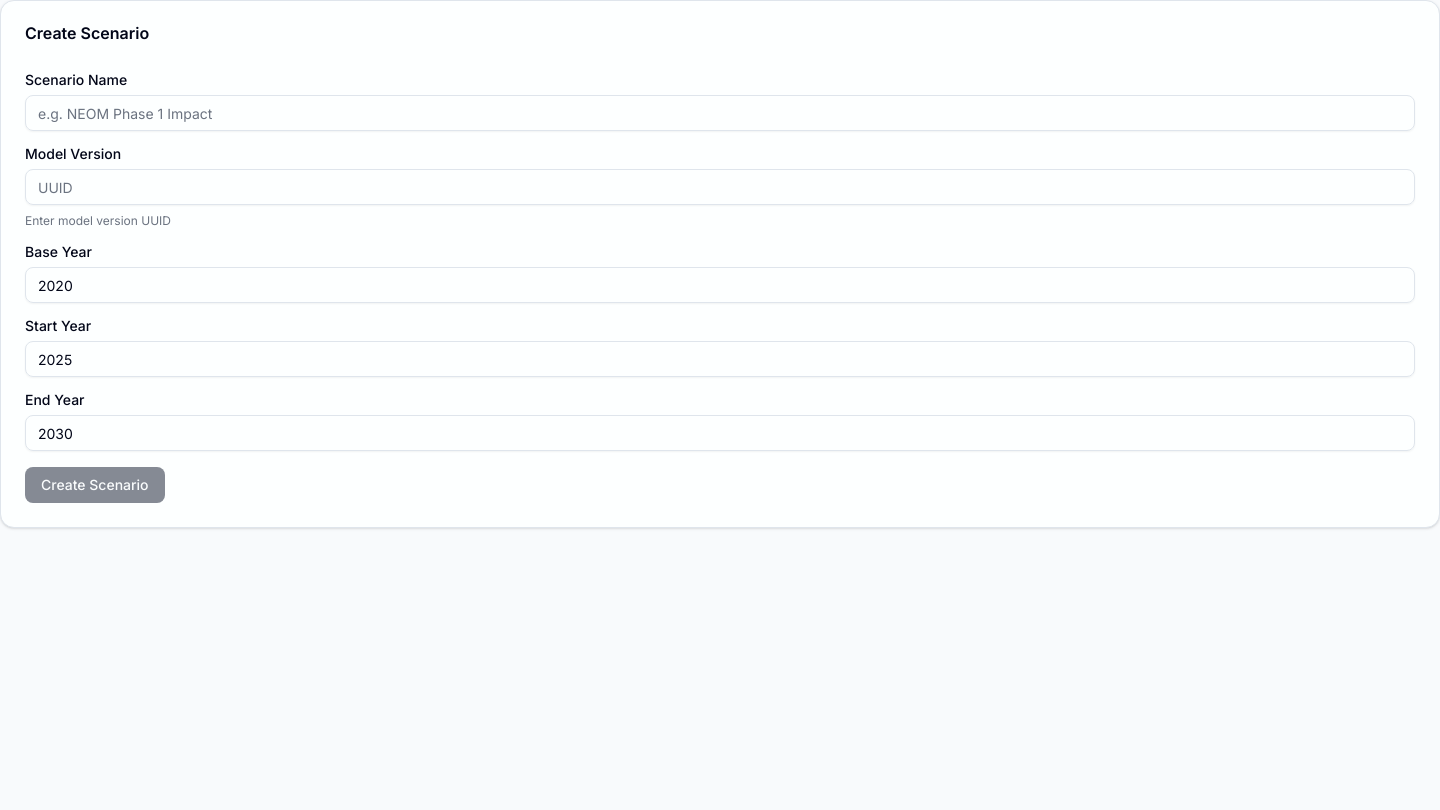
Test: ScenarioCreateForm › shows API error on failure
Type "Fail Scenario" into the field labelled "Scenario Name" at (720, 113), box [25, 95, 1415, 131]
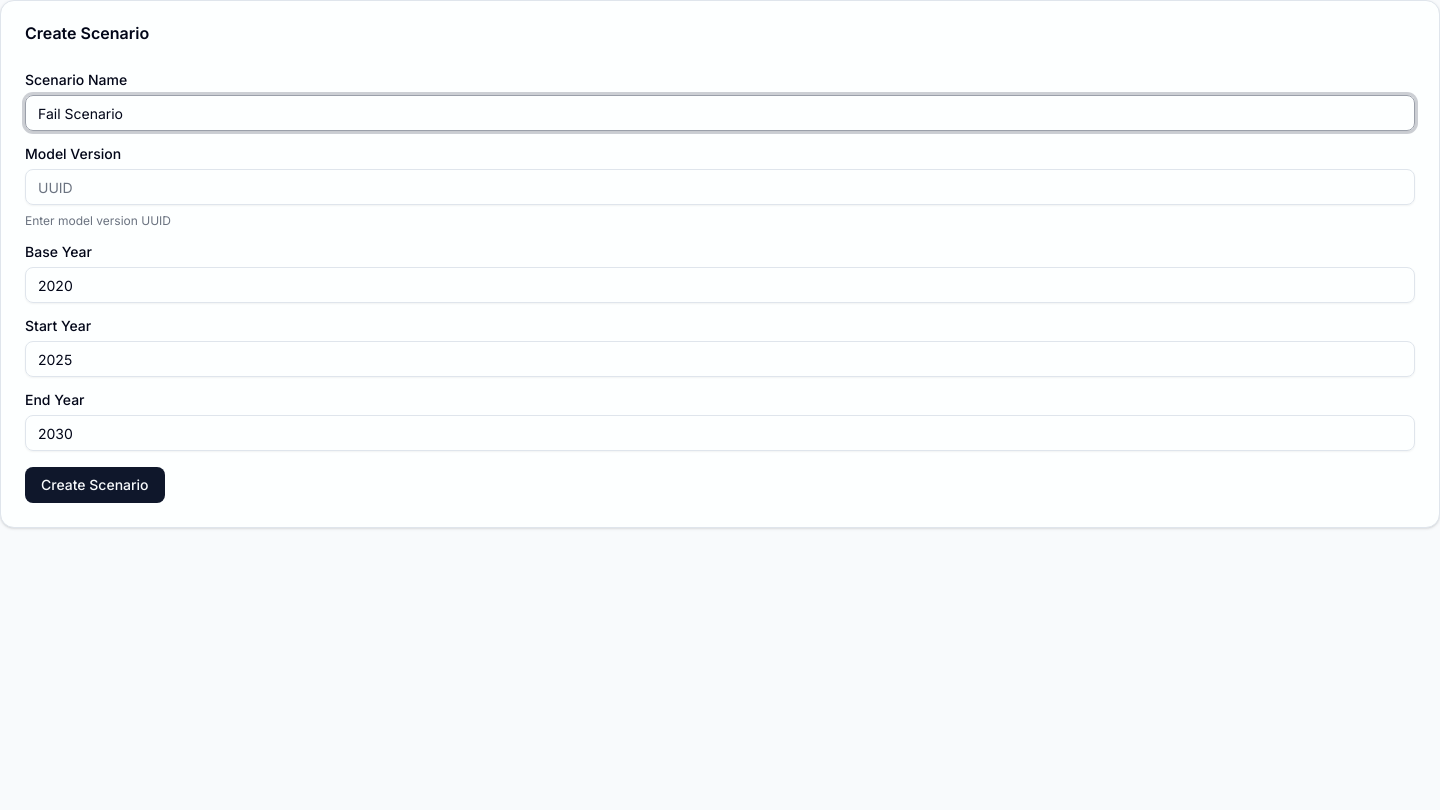
Type "mv-001" into the field labelled "Model Version" at (720, 187), box [25, 169, 1415, 205]
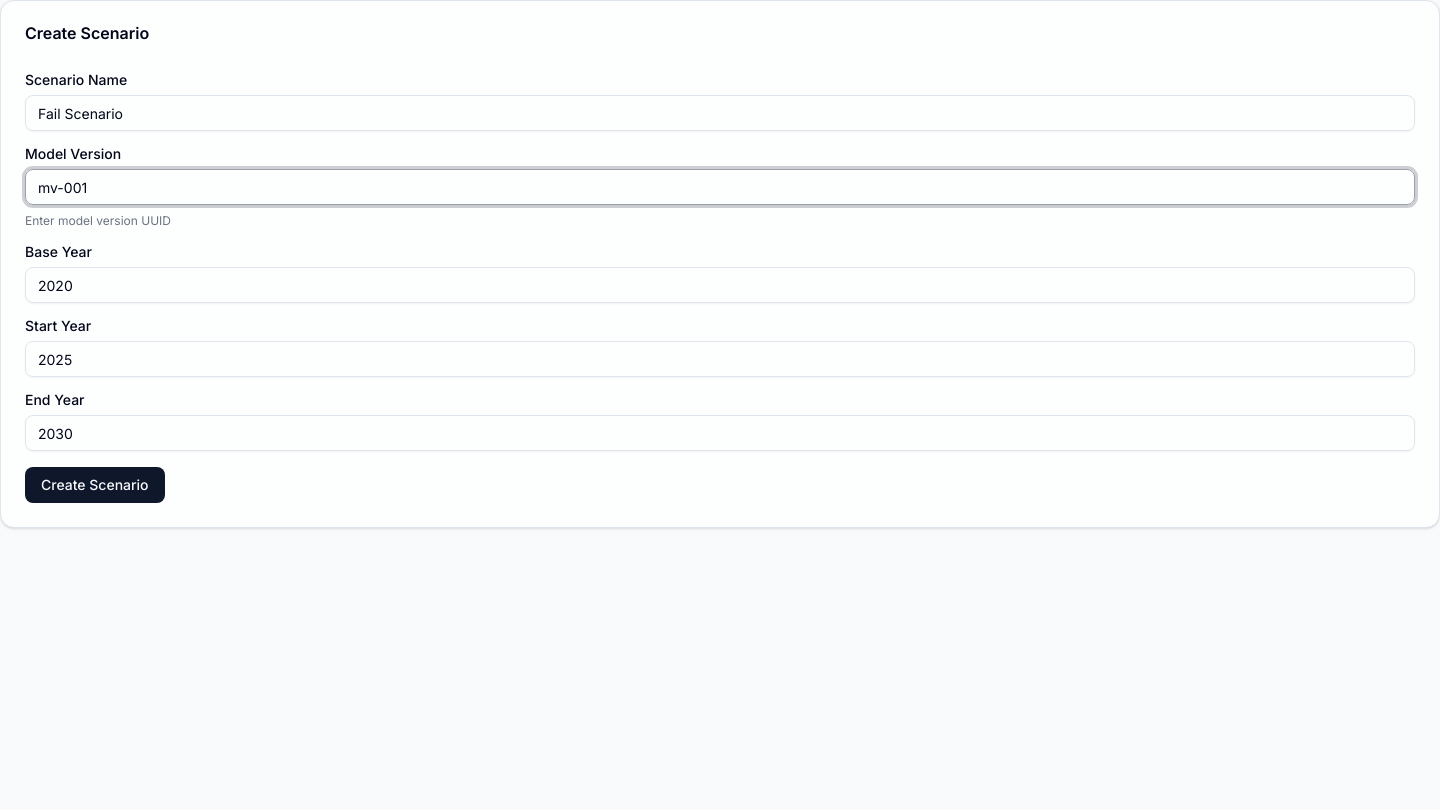
Click the button "Create Scenario" at (95, 485), box [25, 467, 164, 503]
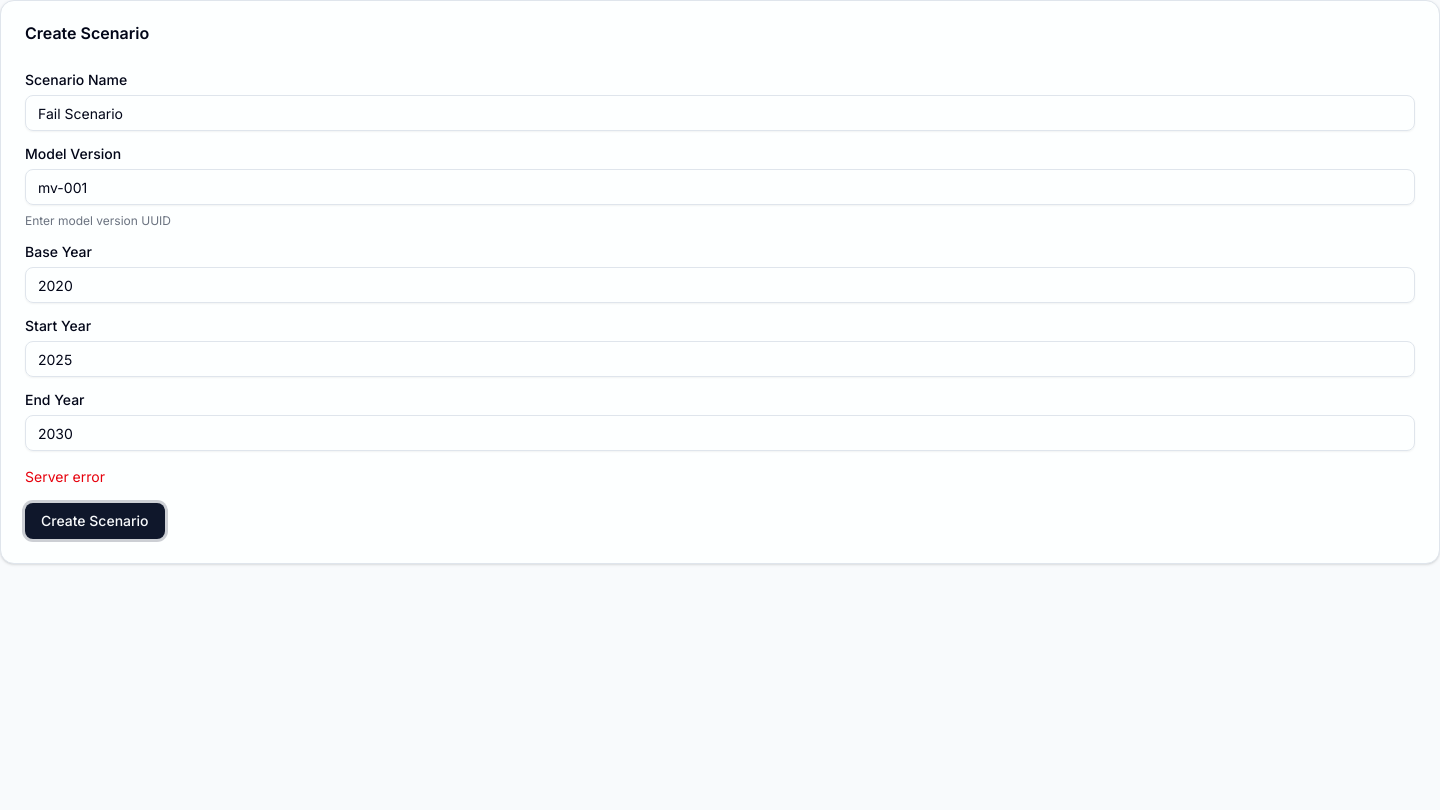
Now the text "Server error" is shown, box [25, 468, 105, 485]
